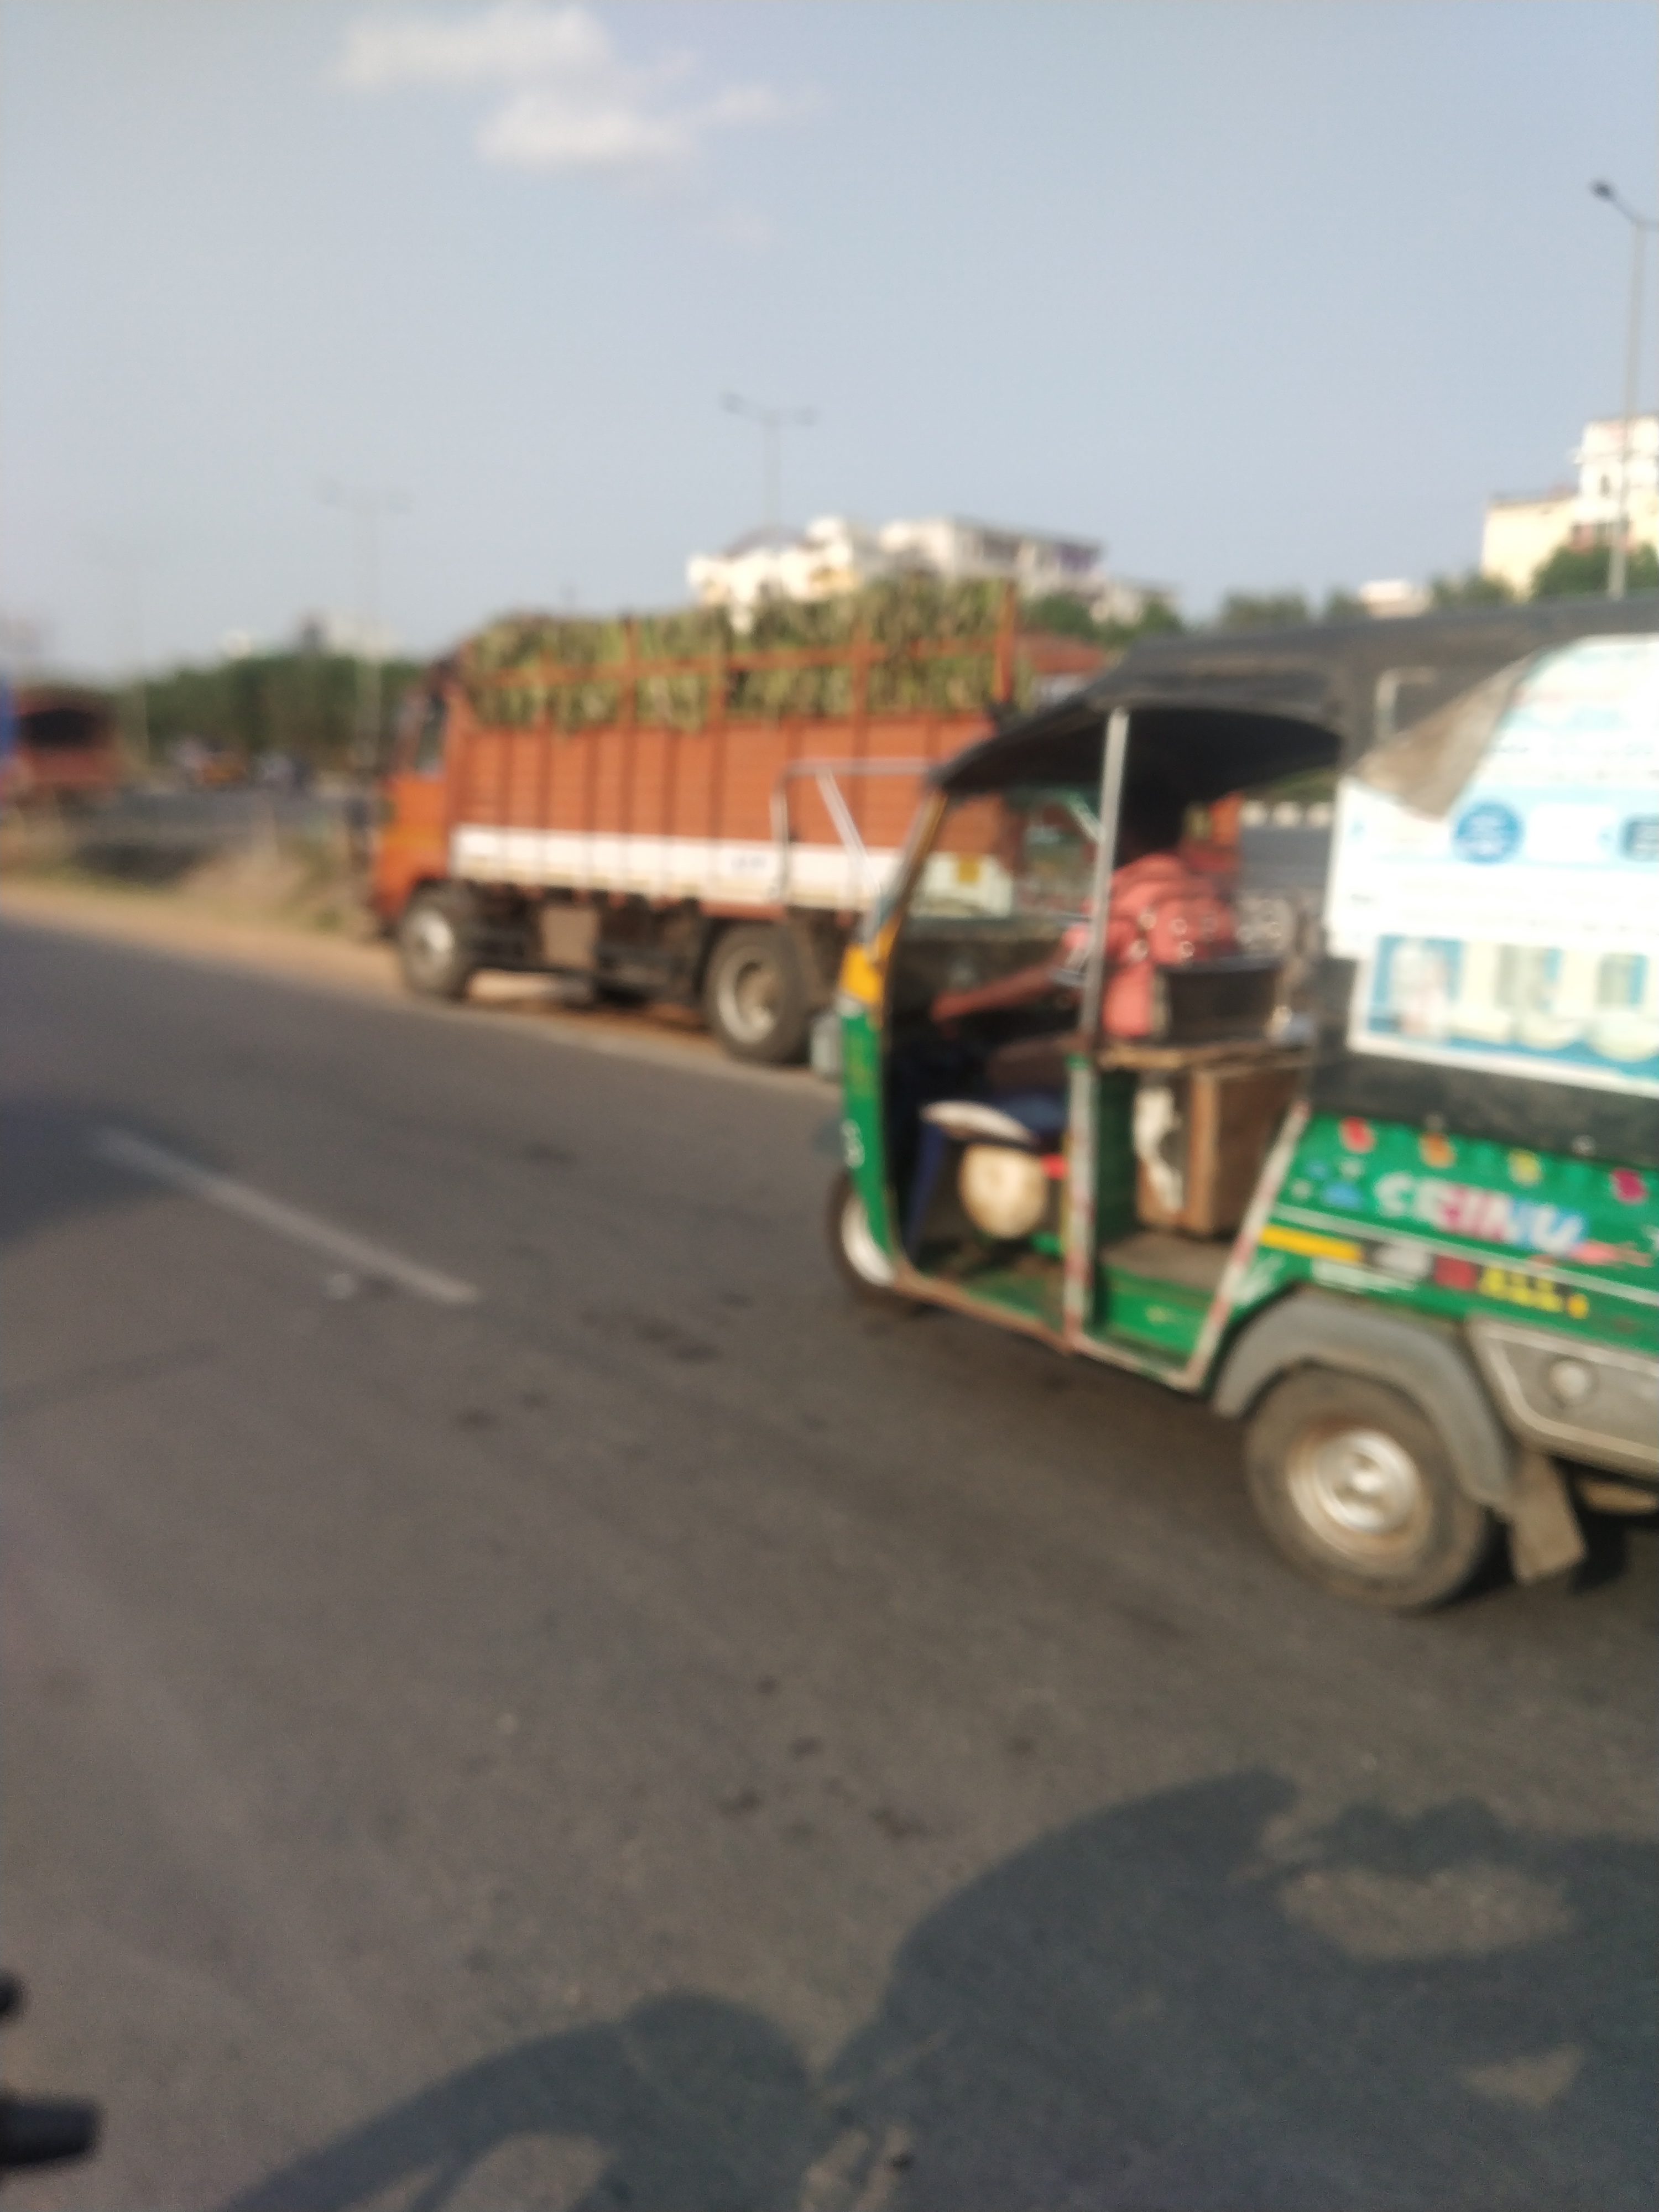truck: (359, 564, 1131, 1069)
